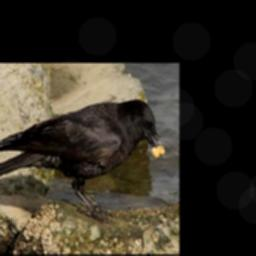Crow: (0, 97, 165, 223)
